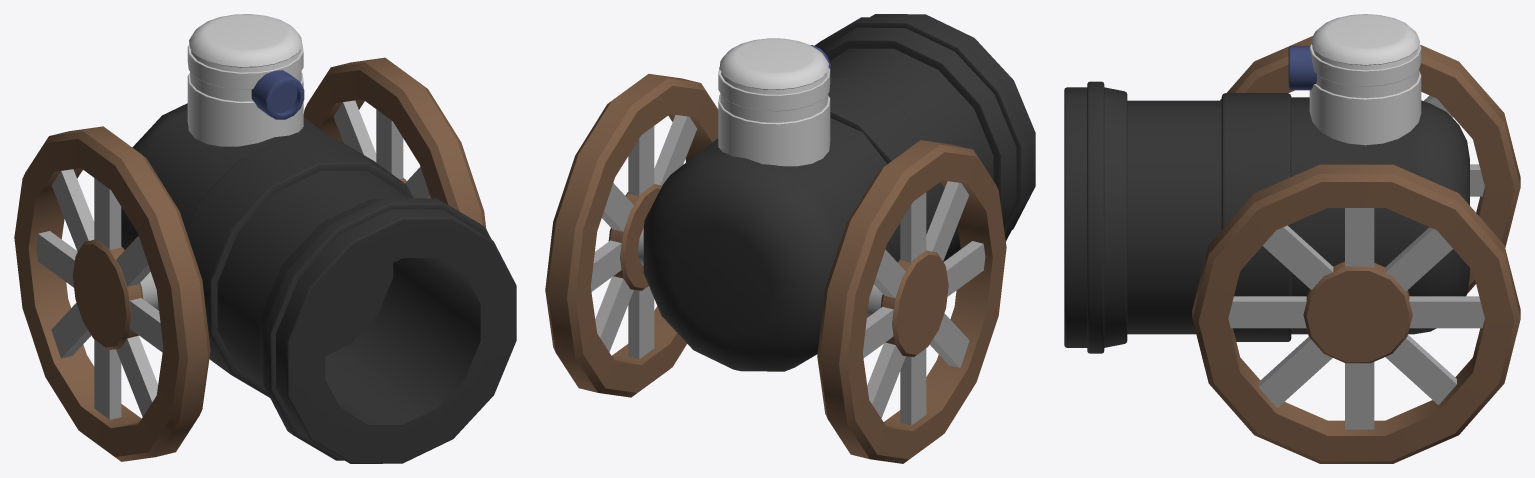
Rendered from Cannon.fbx.
3 views of the same model, side by side, from view 1: azimuth 30°, elevation 25°; view 2: azimuth 150°, elevation 25°; view 3: azimuth 270°, elevation 25° (orthographic). The views are drawn at different scales.
Parts seen in each view (by area): view 1: Canon, pTorus2 (×2), Robot, pCylinder3, pCube4 (×2), pCube3 (×2), Eye, pCube7, pCube8, pCube5, pCube6, pCube1 (+1 smaller); view 2: Canon, pTorus2 (×2), Robot, pCylinder3 (×2), pCube2 (×2), pCube7 (×2), pCube6 (×2), pCube3 (×2), pCube5 (×2), pCube4 (×2), pCube1, pCube8; view 3: Canon, pTorus2 (×2), Robot, pCylinder3, pCube1, pCube5, pCube8, pCube6, pCube2, pCube4, pCube7, pCube3 (+1 smaller).
Part boxes in pixels (x1,y1,x2,y2): Canon: [121, 103, 516, 463]; pTorus2 (×2): [14, 57, 486, 461]; Robot: [187, 14, 303, 146]; pCylinder3: [72, 240, 143, 349]; pCube4 (×2): [51, 100, 376, 251]; pCube3 (×2): [94, 109, 403, 249]; Eye: [251, 70, 304, 119]; pCube7: [94, 340, 121, 419]; pCube8: [116, 335, 157, 416]; pCube5: [36, 231, 77, 287]; pCube6: [51, 303, 91, 358]; pCube1: [129, 298, 163, 352]; Canon: [643, 14, 1035, 371]; pTorus2 (×2): [545, 74, 1006, 463]; Robot: [718, 38, 830, 166]; pCylinder3 (×2): [608, 184, 948, 357]; pCube2 (×2): [654, 115, 969, 261]; pCube7 (×2): [628, 286, 926, 425]; pCube6 (×2): [595, 276, 905, 418]; pCube3 (×2): [628, 126, 926, 262]; pCube5 (×2): [591, 240, 893, 358]; pCube4 (×2): [602, 183, 905, 298]; pCube1: [943, 241, 985, 296]; pCube8: [930, 313, 969, 367]; Canon: [1064, 81, 1469, 353]; pTorus2 (×2): [1192, 36, 1520, 463]; Robot: [1309, 14, 1421, 145]; pCylinder3: [1303, 261, 1412, 363]; pCube1: [1228, 296, 1306, 328]; pCube5: [1409, 296, 1484, 328]; pCube8: [1258, 337, 1332, 407]; pCube6: [1385, 335, 1456, 404]; pCube2: [1263, 225, 1333, 289]; pCube4: [1385, 227, 1452, 291]; pCube7: [1345, 362, 1374, 429]; pCube3: [1345, 208, 1374, 267].
Size of the model in its own units: 2.98 by 3.4 by 3.91.
